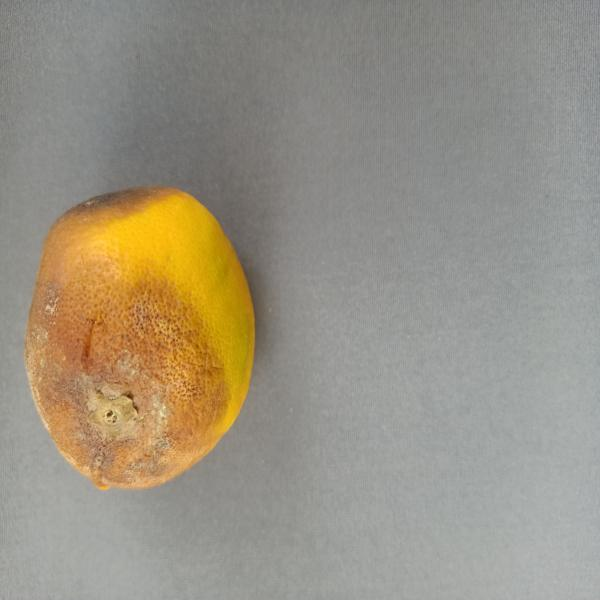Scab: (11, 176, 281, 500)
